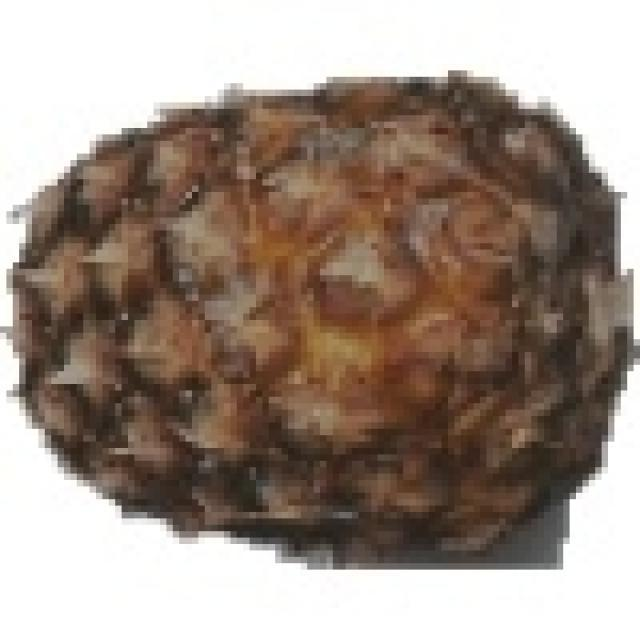pineapple: (6, 64, 614, 550)
